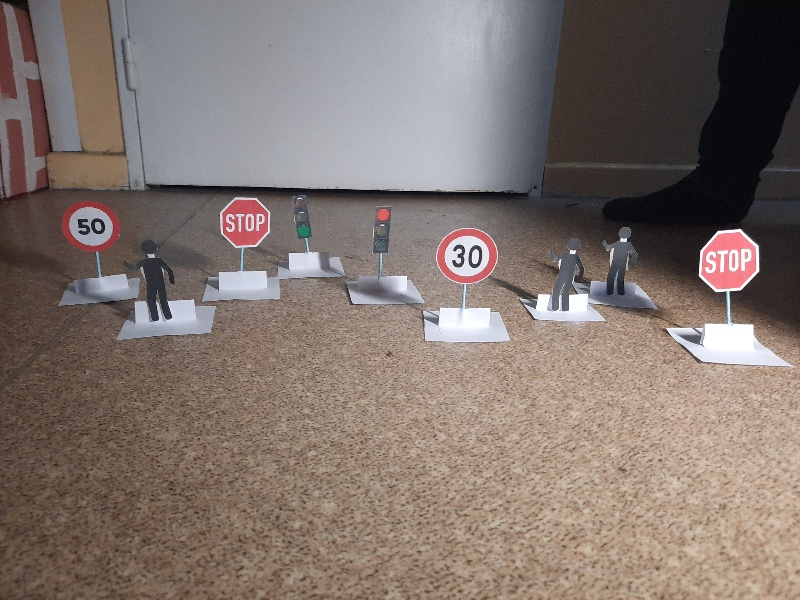Green: (293, 196, 312, 241)
Limit 30: (439, 228, 497, 285)
Limit 50: (60, 201, 116, 251)
Person: (124, 241, 180, 321), (546, 235, 581, 313), (603, 226, 631, 294)
Red: (372, 204, 391, 254)
Stop: (696, 229, 759, 291), (218, 197, 269, 244)
